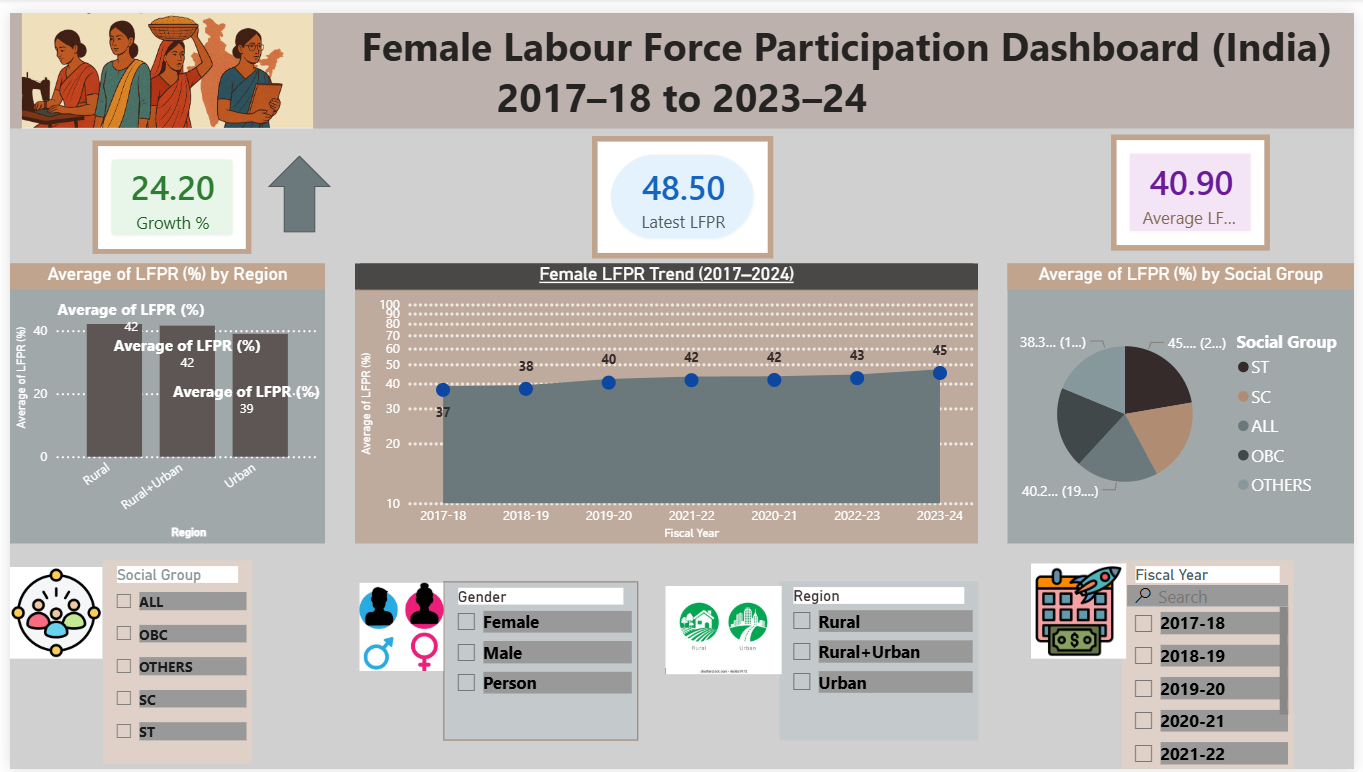

The page's visual inventory and layout, read from the dashboard file:
{"tool":"powerbi","page":{"name":"Page 1","canvas":[1280,720],"ordinal":0},"visuals":[{"type":"cardVisual","fields":{"Data":["PLFS.Latest LFPR"]},"box":[554.2,116.6,172.6,116.6],"z":0},{"type":"textbox","box":[0,0,1280,110],"z":1000},{"type":"cardVisual","fields":{"Data":["PLFS.Growth %"]},"box":[78.4,121.7,151.4,108.1],"z":2000},{"type":"cardVisual","fields":{"Data":["PLFS.Average LFPR"]},"box":[1048.9,116.2,151.4,110.8],"z":3000},{"type":"lineChart","title":"Female LFPR Trend (2017–2024)","fields":{"Category":["PLFS.Fiscal Year"],"Y":["Avg(PLFS.LFPR (%))"]},"box":[328.3,238.3,593.3,266.7],"z":4000},{"type":"clusteredColumnChart","fields":{"Category":["PLFS.Region"],"Y":["Avg(PLFS.LFPR (%))"]},"box":[0,238.3,300,266.7],"z":5000},{"type":"pieChart","fields":{"Category":["PLFS.Social Group"],"Y":["Avg(PLFS.LFPR (%))"]},"box":[950,238.3,330,266.7],"z":6000},{"type":"slicer","fields":{"Values":["PLFS.Fiscal Year"]},"box":[1058.4,521.8,163.6,198.7],"z":7000},{"type":"slicer","fields":{"Values":["PLFS.Region"]},"box":[732.6,542,189.2,151.4],"z":8000},{"type":"slicer","fields":{"Values":["PLFS.Gender"]},"box":[412.3,542,185.2,151.4],"z":9000},{"type":"slicer","fields":{"Values":["PLFS.Social Group"]},"box":[88.3,521.7,141.7,193.3],"z":10000},{"type":"shape","box":[245,135,60,73.3],"z":11000},{"type":"image","box":[0,0,300,110],"z":12000},{"type":"image","box":[965.1,524.5,104.1,90.6],"z":13000},{"type":"image","box":[332.5,529.9,79.8,109.5],"z":14000},{"type":"image","box":[624.5,535.3,110.8,104.1],"z":15000},{"type":"image","box":[0,523.9,87.8,93.9],"z":16000}]}

Visuals, with their boxes in screenshot pixels (x1, y1, x2, y2), scaled from the page's 1280x720 canvas onto the 1363x772 screenshot:
cardVisual - PLFS.Latest LFPR: bbox=(590, 125, 774, 250)
textbox: bbox=(0, 0, 1362, 118)
cardVisual - PLFS.Growth %: bbox=(83, 130, 245, 246)
cardVisual - PLFS.Average LFPR: bbox=(1117, 125, 1278, 243)
"Female LFPR Trend (2017–2024)" lineChart: bbox=(350, 256, 981, 541)
clusteredColumnChart - PLFS.Region x Avg(PLFS.LFPR (%)): bbox=(0, 256, 319, 541)
pieChart - PLFS.Social Group x Avg(PLFS.LFPR (%)): bbox=(1012, 256, 1362, 541)
slicer - PLFS.Fiscal Year: bbox=(1127, 559, 1301, 771)
slicer - PLFS.Region: bbox=(780, 581, 982, 743)
slicer - PLFS.Gender: bbox=(439, 581, 636, 743)
slicer - PLFS.Social Group: bbox=(94, 559, 245, 767)
shape: bbox=(261, 145, 325, 223)
image: bbox=(0, 0, 319, 118)
image: bbox=(1028, 562, 1139, 660)
image: bbox=(354, 568, 439, 686)
image: bbox=(665, 574, 783, 686)
image: bbox=(0, 562, 93, 662)
